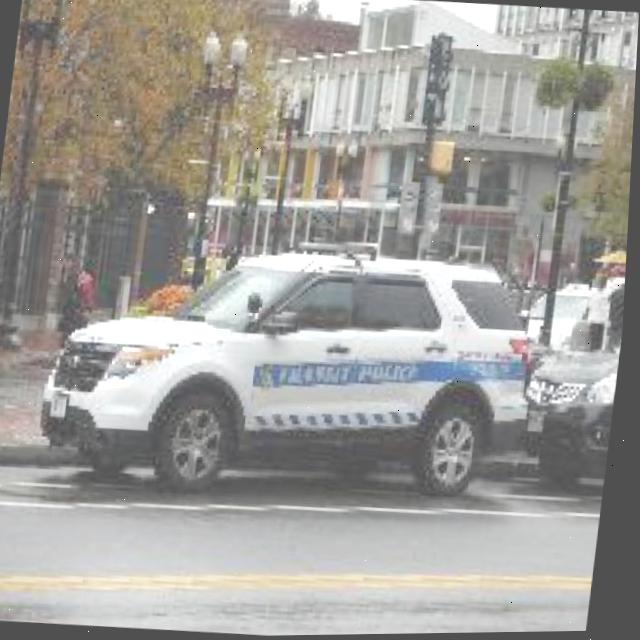emergency: (32, 224, 555, 520)
